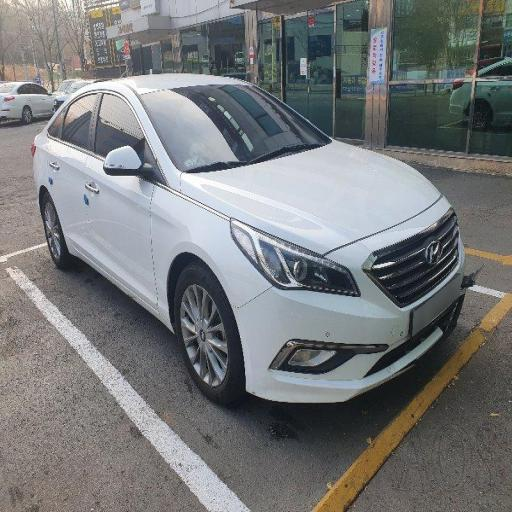scratch: (58, 167, 288, 339)
